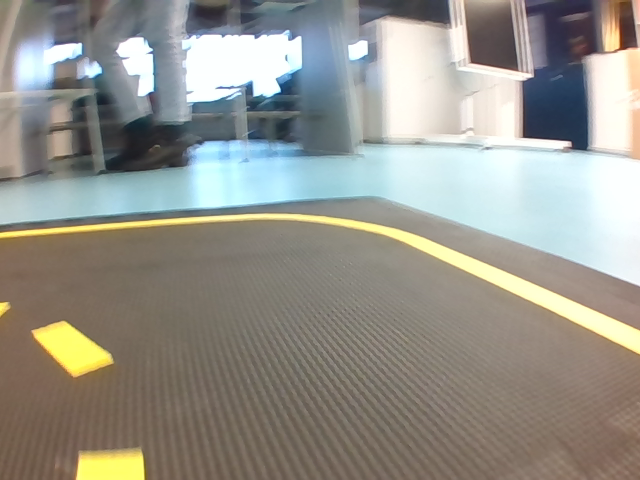stop: (191, 50, 242, 120)
